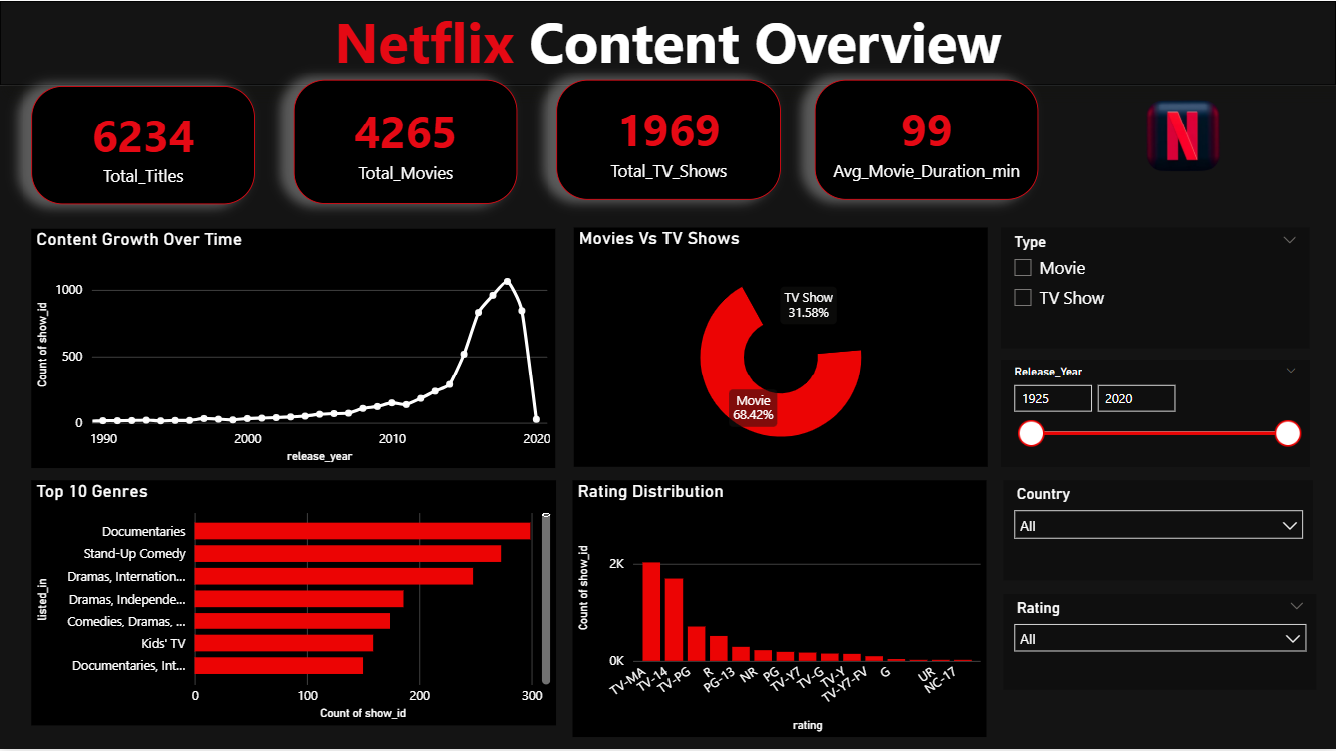

The dashboard page shown, as its layout file describes it:
{"tool":"powerbi","page":{"name":"Overview","canvas":[1280,720],"ordinal":0},"visuals":[{"type":"shape","box":[0,0,1280,80.8],"z":0},{"type":"textbox","box":[0,0,1280,80.8],"z":1000},{"type":"card","fields":{"Values":["Netflix_Data.Total_Titles"]},"box":[30,81.4,214.3,114.3],"z":2000},{"type":"card","fields":{"Values":["Netflix_Data.Total_Movies"]},"box":[281.4,75.7,214.3,120],"z":3000},{"type":"card","fields":{"Values":["Netflix_Data.Total_TV_Shows"]},"box":[532.9,75.7,214.3,115.7],"z":4000},{"type":"card","fields":{"Values":["Netflix_Data.Avg_Movie_Duration"]},"box":[780,75.7,214.3,115.7],"z":5000},{"type":"donutChart","title":"Movies Vs TV Shows","fields":{"Category":["Netflix_Data.type"],"Y":["CountNonNull(Netflix_Data.show_id)"]},"box":[550,218.6,395.7,230],"z":6000},{"type":"lineChart","title":"Content Growth Over Time","fields":{"Y":["CountNonNull(Netflix_Data.show_id)"],"Category":["Netflix_Data.release_year"]},"box":[30,218.8,502.5,230],"z":7000},{"type":"clusteredBarChart","title":"Top 10 Genres","fields":{"Category":["Netflix_Data.listed_in"],"Y":["CountNonNull(Netflix_Data.show_id)"]},"box":[30,461.4,502.9,235.7],"z":8000},{"type":"clusteredColumnChart","title":"Rating Distribution","fields":{"Category":["Netflix_Data.rating"],"Y":["CountNonNull(Netflix_Data.show_id)"]},"box":[548.6,461.4,395.7,247.1],"z":9000},{"type":"slicer","fields":{"Values":["Netflix_Data.type"]},"box":[958.6,218.6,295.7,115.7],"z":10000},{"type":"slicer","fields":{"Values":["Netflix_Data.release_year"]},"box":[958.6,345.7,295.7,102.9],"z":11000},{"type":"slicer","fields":{"Values":["Netflix_Data.country"]},"box":[961.4,461.4,297.1,95.7],"z":12000},{"type":"slicer","fields":{"Values":["Netflix_Data.rating"]},"box":[961.4,570,300,92.9],"z":13000},{"type":"image","box":[1024.4,66.4,216.4,124.1],"z":13001}]}

Visuals, with their boxes in screenshot pixels (x1, y1, x2, y2), scaled from the page's 1280x720 canvas onto the 1339x751 screenshot:
shape: bbox=(0, 0, 1338, 84)
textbox: bbox=(0, 0, 1338, 84)
card - Netflix_Data.Total_Titles: bbox=(31, 85, 256, 204)
card - Netflix_Data.Total_Movies: bbox=(294, 79, 519, 204)
card - Netflix_Data.Total_TV_Shows: bbox=(557, 79, 782, 200)
card - Netflix_Data.Avg_Movie_Duration: bbox=(816, 79, 1040, 200)
"Movies Vs TV Shows" donutChart: bbox=(575, 228, 989, 468)
"Content Growth Over Time" lineChart: bbox=(31, 228, 557, 468)
"Top 10 Genres" clusteredBarChart: bbox=(31, 481, 557, 727)
"Rating Distribution" clusteredColumnChart: bbox=(574, 481, 988, 739)
slicer - Netflix_Data.type: bbox=(1003, 228, 1312, 349)
slicer - Netflix_Data.release_year: bbox=(1003, 361, 1312, 468)
slicer - Netflix_Data.country: bbox=(1006, 481, 1317, 581)
slicer - Netflix_Data.rating: bbox=(1006, 595, 1320, 691)
image: bbox=(1072, 69, 1298, 199)
